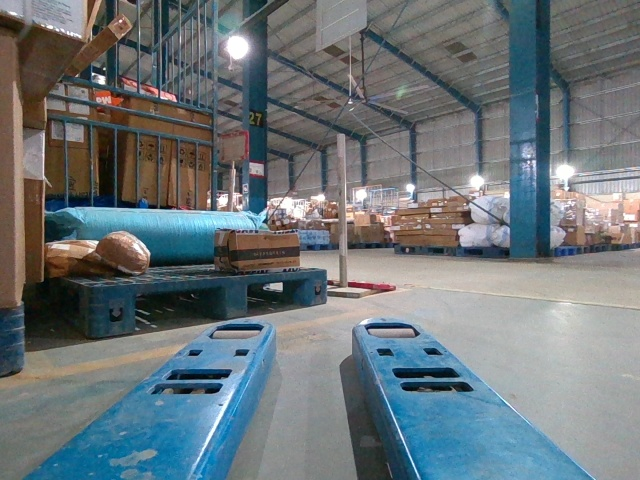block: (88, 284, 136, 342), (222, 274, 249, 320), (303, 268, 329, 308)
front: (95, 267, 326, 337)
hole pallet: (130, 280, 227, 329), (244, 273, 311, 310)
